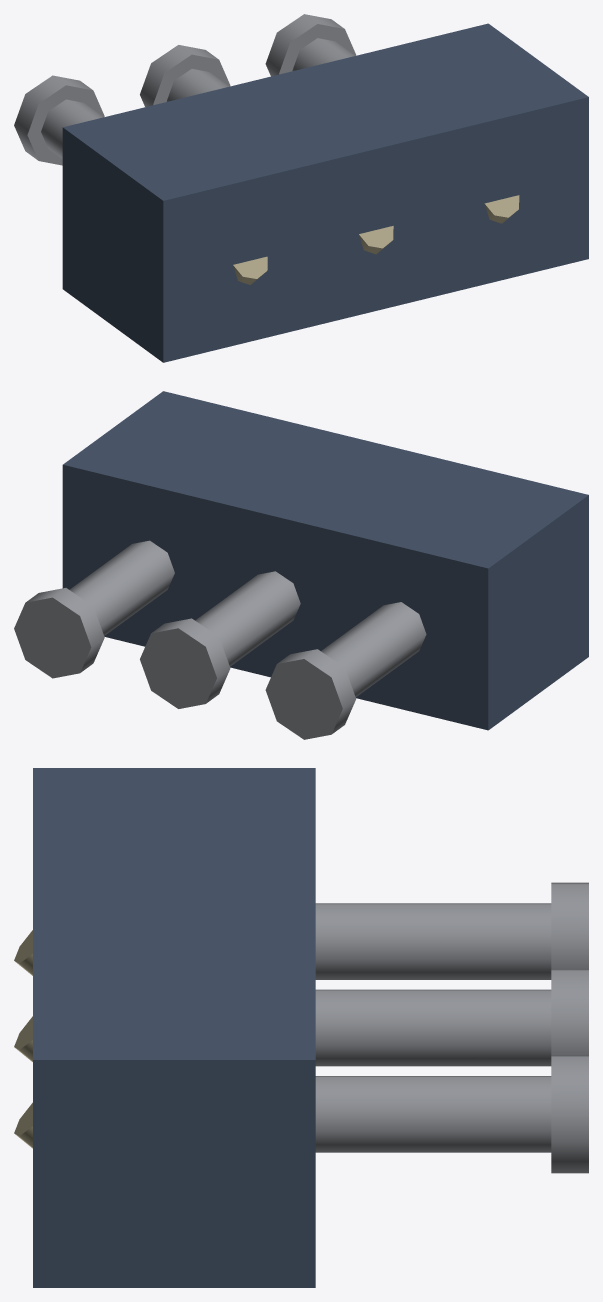
File: kc1000_ports.obj
3 renders of one model, top to bottom at view 1: azimuth 30°, elevation 25°; view 2: azimuth 150°, elevation 25°; view 3: azimuth 270°, elevation 25°, orthographic. The views are drawn at different scales.
Parts seen in each view (by area): view 1: kc1000_ports; view 2: kc1000_ports; view 3: kc1000_ports.
Part boxes in pixels (x1=…): kc1000_ports: x1=14, y1=14, x2=588, y2=362; kc1000_ports: x1=14, y1=391, x2=588, y2=739; kc1000_ports: x1=14, y1=768, x2=588, y2=1287.
Size of the model in its own units: 2.2 by 0.8269 by 1.83.
